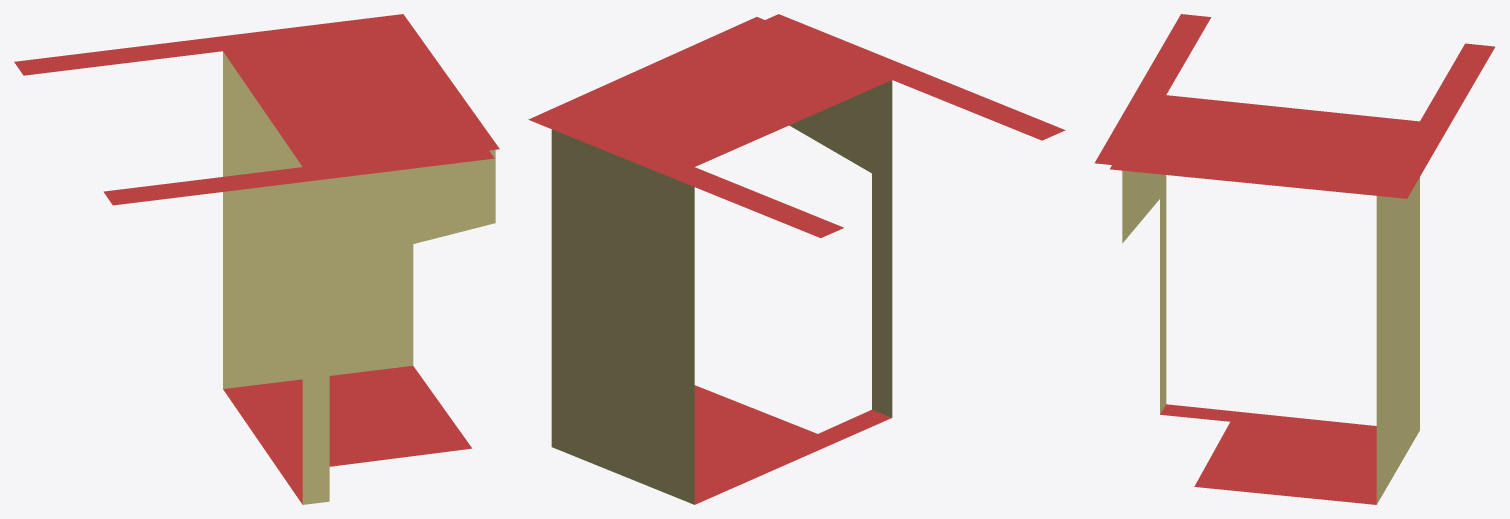
3 renders of one model, left to right at view 1: azimuth 30°, elevation 25°; view 2: azimuth 150°, elevation 25°; view 3: azimuth 270°, elevation 25°, orthographic. The views are drawn at different scales.
Size of the model in its own units: 10.48 by 9.61 by 8.17.
